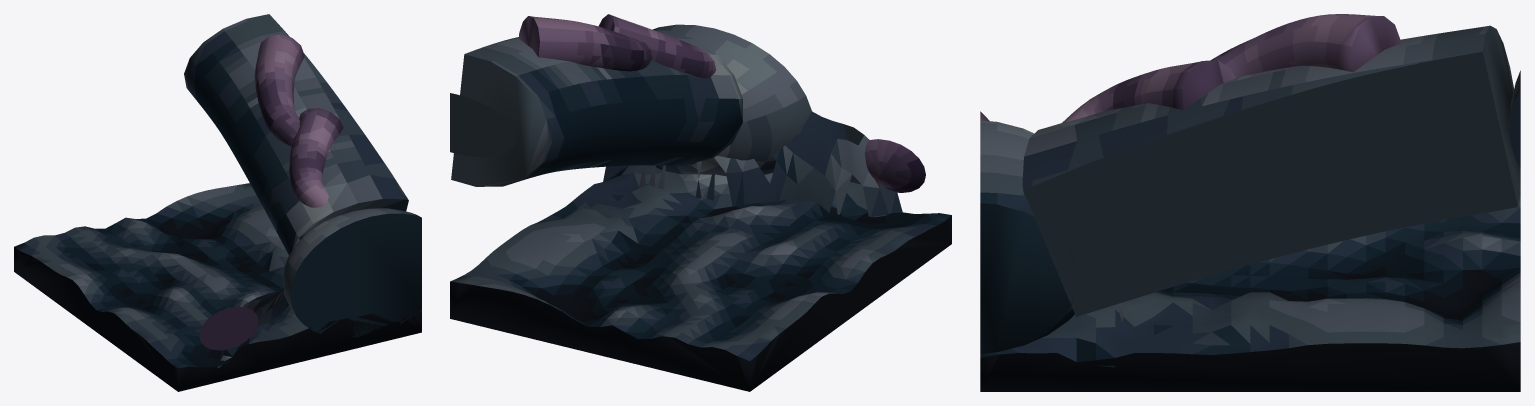
Rendered from gyges_stalk_tl.glb.
3 renders of one model, left to right at view 1: azimuth 30°, elevation 25°; view 2: azimuth 150°, elevation 25°; view 3: azimuth 270°, elevation 25°, orthographic. The views are drawn at different scales.
Parts seen in each view (by area): view 1: gyges_stalk_tl_stalk_wall, gyges_stalk_tl_stalk_stem, gyges_stalk_tl_stalk_bulb, gyges_stalk_tl_stalk_finger0, gyges_stalk_tl_stalk_finger1, gyges_stalk_tl_stalk_tip0, gyges_stalk_tl_stalk_root; view 2: gyges_stalk_tl_stalk_wall, gyges_stalk_tl_stalk_stem, gyges_stalk_tl_stalk_root, gyges_stalk_tl_stalk_bulb, gyges_stalk_tl_stalk_finger0, gyges_stalk_tl_stalk_cap, gyges_stalk_tl_stalk_finger1, gyges_stalk_tl_stalk_tip0; view 3: gyges_stalk_tl_stalk_stem, gyges_stalk_tl_stalk_wall, gyges_stalk_tl_stalk_bulb, gyges_stalk_tl_stalk_finger0, gyges_stalk_tl_stalk_finger1, gyges_stalk_tl_stalk_cap.
Boxes of the visible parts, bbox=[...] form: gyges_stalk_tl_stalk_wall: bbox=[14, 183, 421, 391]; gyges_stalk_tl_stalk_stem: bbox=[184, 14, 408, 255]; gyges_stalk_tl_stalk_bulb: bbox=[283, 208, 421, 337]; gyges_stalk_tl_stalk_finger0: bbox=[254, 34, 304, 146]; gyges_stalk_tl_stalk_finger1: bbox=[289, 108, 343, 207]; gyges_stalk_tl_stalk_tip0: bbox=[199, 306, 258, 350]; gyges_stalk_tl_stalk_root: bbox=[217, 284, 421, 368]; gyges_stalk_tl_stalk_wall: bbox=[450, 165, 951, 391]; gyges_stalk_tl_stalk_stem: bbox=[451, 30, 742, 186]; gyges_stalk_tl_stalk_root: bbox=[603, 111, 902, 217]; gyges_stalk_tl_stalk_bulb: bbox=[652, 24, 811, 176]; gyges_stalk_tl_stalk_finger0: bbox=[518, 16, 652, 71]; gyges_stalk_tl_stalk_cap: bbox=[450, 93, 516, 157]; gyges_stalk_tl_stalk_finger1: bbox=[598, 14, 716, 78]; gyges_stalk_tl_stalk_tip0: bbox=[864, 139, 925, 192]; gyges_stalk_tl_stalk_stem: bbox=[1022, 25, 1520, 316]; gyges_stalk_tl_stalk_wall: bbox=[980, 192, 1520, 391]; gyges_stalk_tl_stalk_bulb: bbox=[980, 120, 1074, 353]; gyges_stalk_tl_stalk_finger0: bbox=[1210, 14, 1400, 77]; gyges_stalk_tl_stalk_finger1: bbox=[1062, 60, 1235, 122]; gyges_stalk_tl_stalk_cap: bbox=[1509, 70, 1520, 167].
Size of the model in its own units: 23.98 by 20.37 by 27.98.
